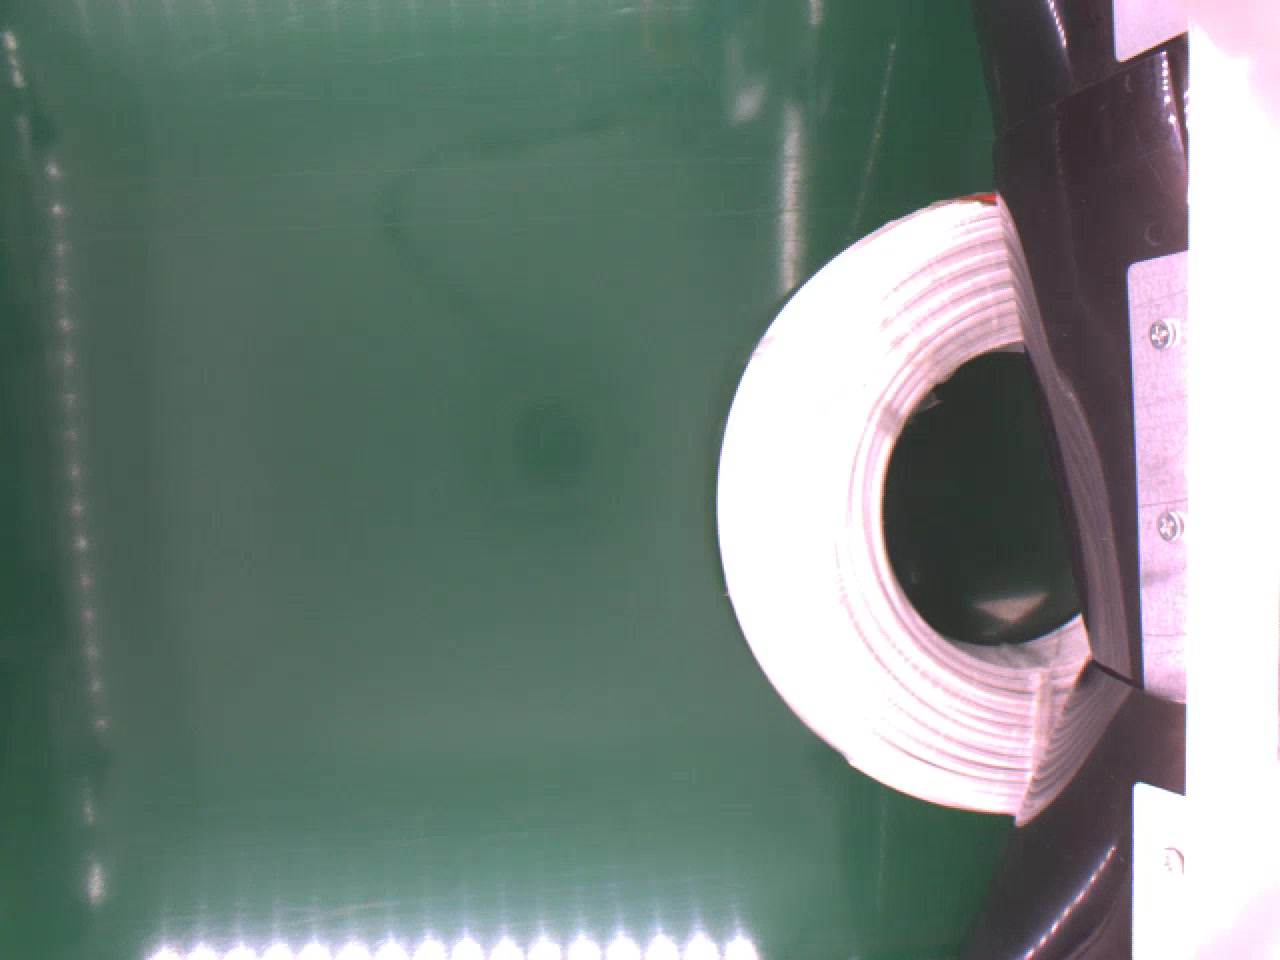white: (703, 190, 1113, 821)
